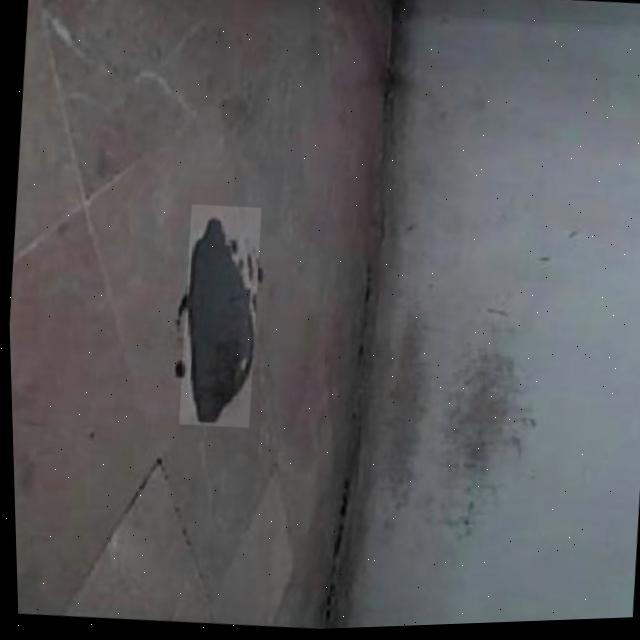spillage: (183, 207, 252, 427)
